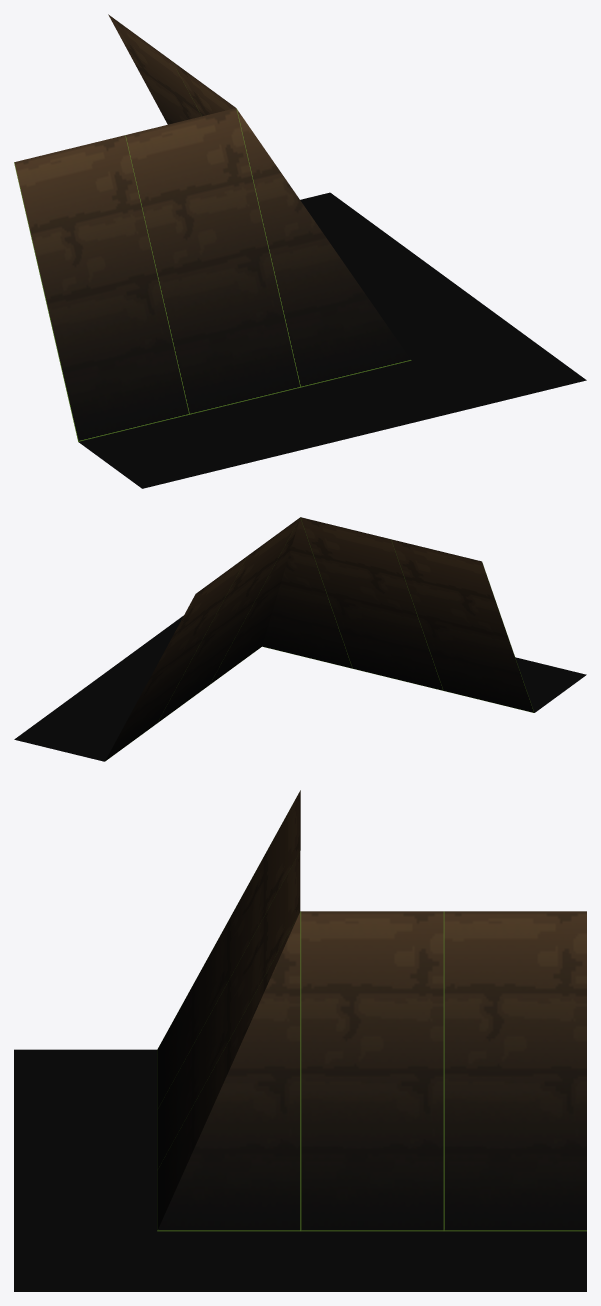
Rendered from wallBottom_cornerOut.FBX.
The picture shows the model from 3 angles, top to bottom: view 1: azimuth 30°, elevation 25°; view 2: azimuth 150°, elevation 25°; view 3: azimuth 270°, elevation 25°; orthographic projection. The views are drawn at different scales.
Visible parts, largest first — view 1: wallBottom_cornerOut; view 2: wallBottom_cornerOut; view 3: wallBottom_cornerOut.
Part boxes in pixels (left/top/right/bottom): wallBottom_cornerOut: left=14, top=14, right=586, bottom=488; wallBottom_cornerOut: left=14, top=517, right=586, bottom=761; wallBottom_cornerOut: left=14, top=790, right=586, bottom=1291.
Size of the model in its own units: 8 by 4 by 8.
